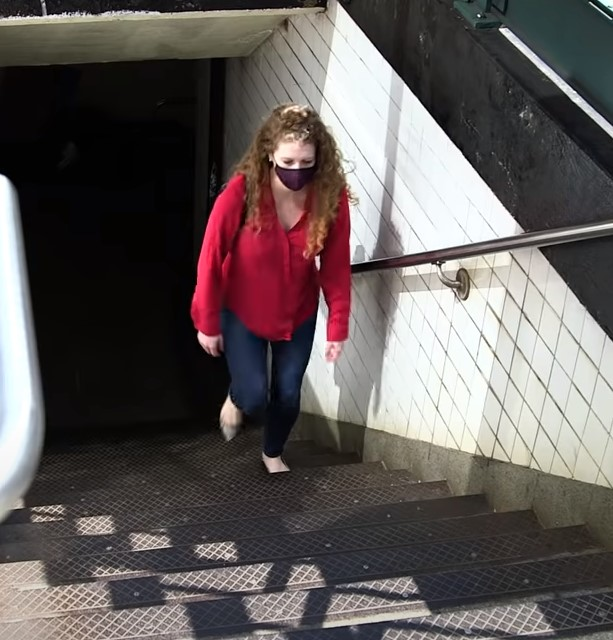face_with_mask: (266, 112, 328, 194)
